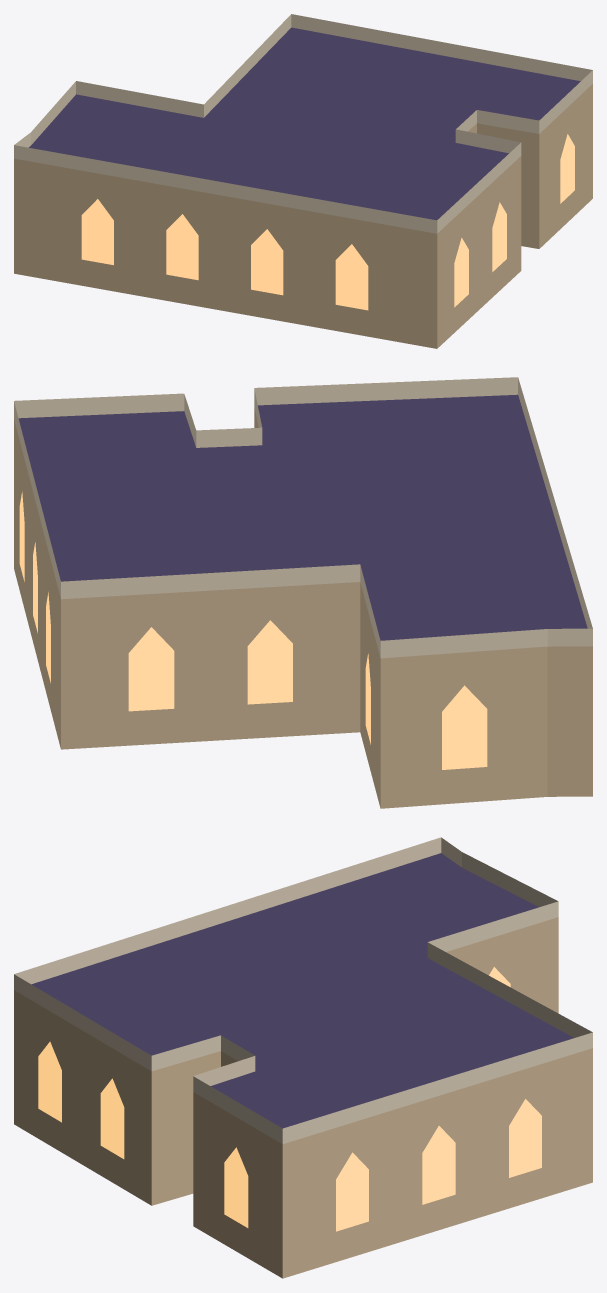
The picture shows the model from 3 angles, top to bottom: view 1: azimuth 30°, elevation 25°; view 2: azimuth 150°, elevation 25°; view 3: azimuth 270°, elevation 25°; orthographic projection. The views are drawn at different scales.
Visible parts, largest first — view 1: campus/b-055-0; view 2: campus/b-055-0; view 3: campus/b-055-0.
Part boxes in pixels (x1,y1,x2,y2): campus/b-055-0: [14, 14, 592, 348]; campus/b-055-0: [14, 377, 592, 808]; campus/b-055-0: [14, 837, 592, 1278].
Bounding box in the file's own units: 21.84 × 5.25 × 18.35.
